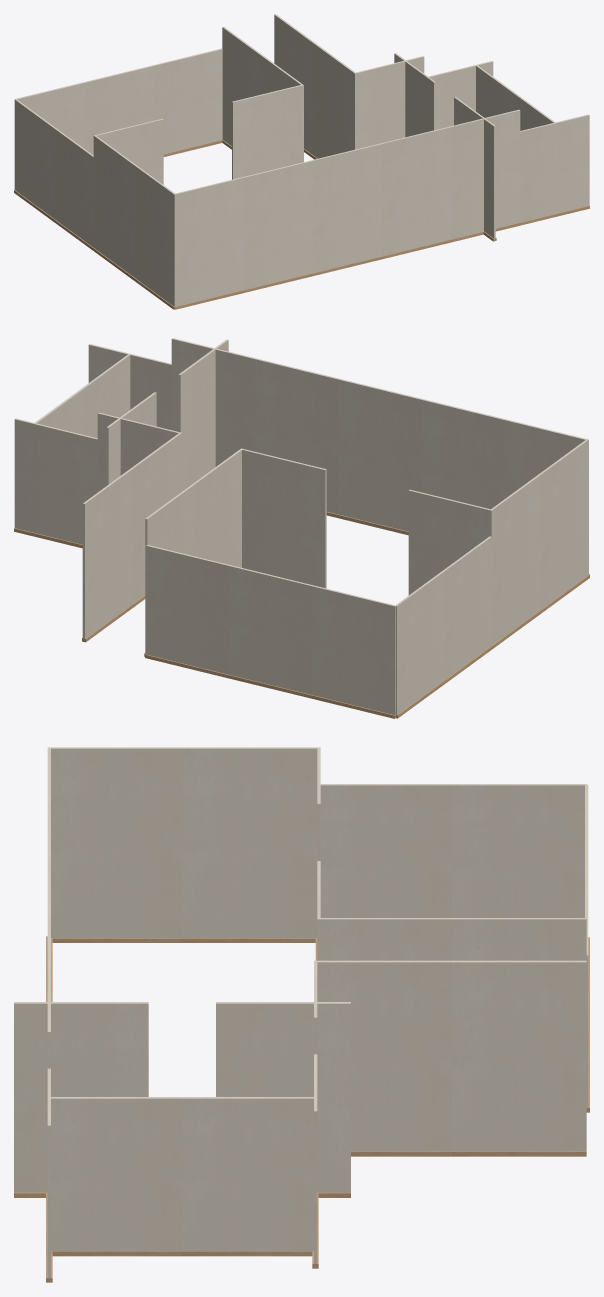
Rendered from Tiles_House_Walls.fbx.
3 views of the same model, one above another, from view 1: azimuth 30°, elevation 25°; view 2: azimuth 150°, elevation 25°; view 3: azimuth 270°, elevation 25° (orthographic). The views are drawn at different scales.
Parts seen in each view (by area): view 1: Murs; view 2: Murs; view 3: Murs.
Part boxes in pixels (<box>): Murs: <box>14,14,589,309</box>; Murs: <box>14,338,589,718</box>; Murs: <box>14,747,589,1282</box>.
Size of the model in its own units: 1202 by 317 by 855.
